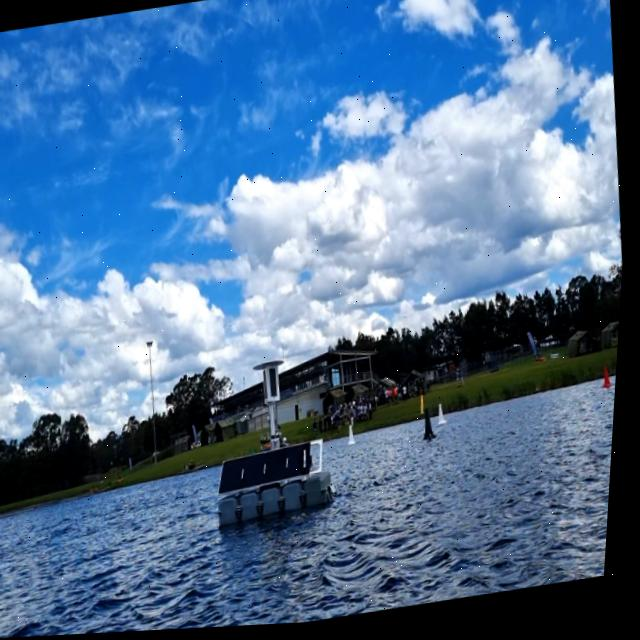led: (266, 366, 286, 404), (270, 367, 286, 404), (266, 371, 274, 404)
